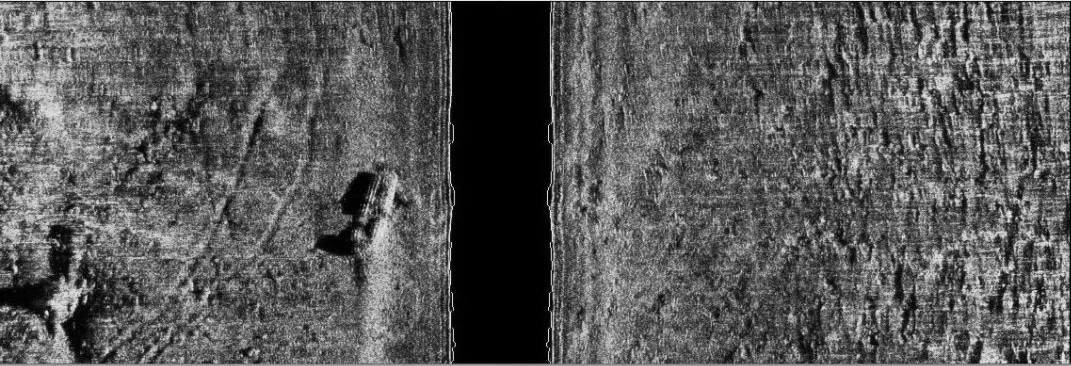ship: (345, 168, 402, 259)
